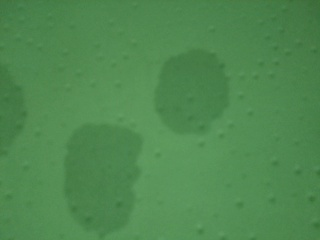Water_detected: (78, 129, 157, 211), (168, 64, 217, 127), (0, 88, 32, 150)
